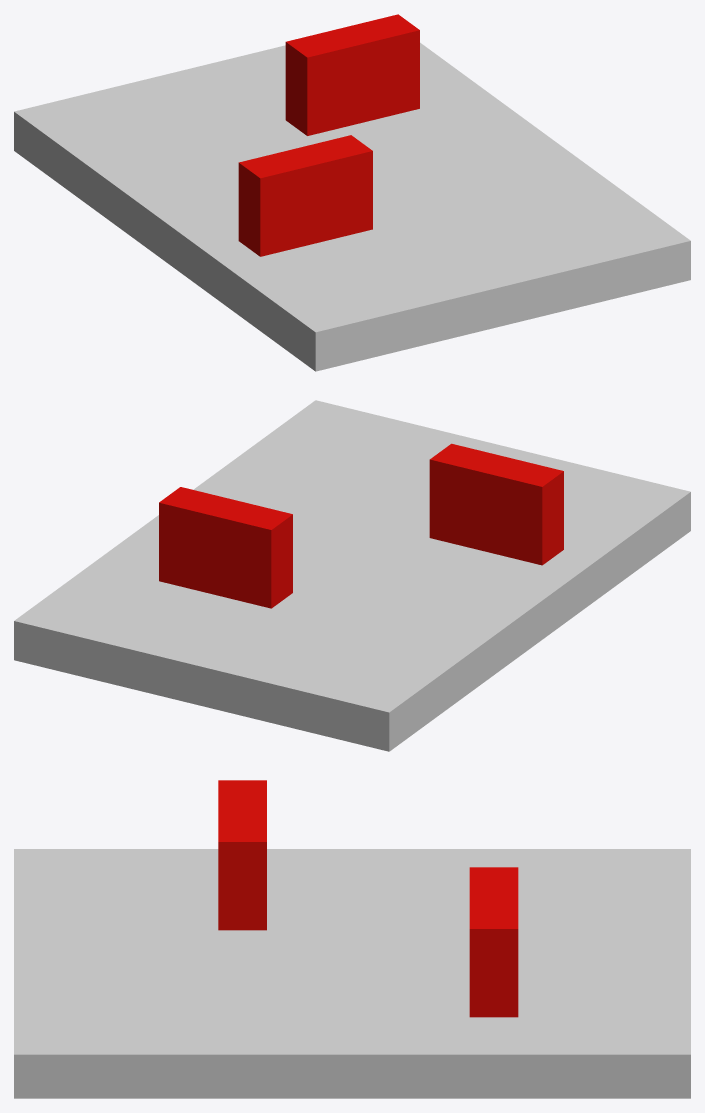
The model's file is Module4.glb.
3 views of the same model, one above another, from view 1: azimuth 30°, elevation 25°; view 2: azimuth 150°, elevation 25°; view 3: azimuth 270°, elevation 25° (orthographic). The views are drawn at different scales.
Parts seen in each view (by area): view 1: Floor4-col, Obstacle6, Obstacle7; view 2: Floor4-col, Obstacle6, Obstacle7; view 3: Floor4-col, Obstacle7, Obstacle6.
Part boxes in pixels (box(x1,y1,x2,y2)): Floor4-col: box(14, 42, 690, 371); Obstacle6: box(238, 135, 372, 256); Obstacle7: box(285, 14, 419, 135); Floor4-col: box(14, 400, 690, 751); Obstacle6: box(429, 443, 563, 565); Obstacle7: box(159, 487, 292, 608); Floor4-col: box(14, 849, 690, 1098); Obstacle7: box(469, 867, 518, 1017); Obstacle6: box(218, 780, 266, 930).
Size of the model in its own units: 10 by 3 by 13.92.
